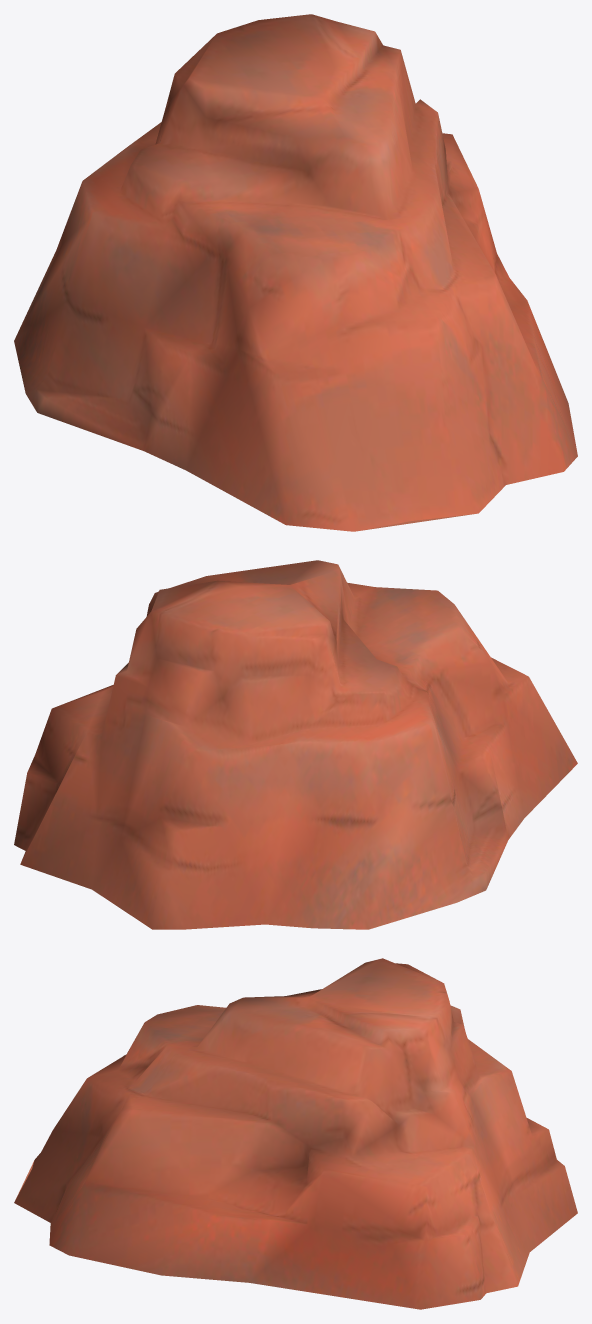
File: Demo_shanshi03.FBX
3 renders of one model, top to bottom at view 1: azimuth 30°, elevation 25°; view 2: azimuth 150°, elevation 25°; view 3: azimuth 270°, elevation 25°, orthographic. The views are drawn at different scales.
Visible parts, largest first — view 1: Object001; view 2: Object001; view 3: Object001.
Part boxes in pixels (x1=…): Object001: x1=14, y1=14, x2=577, y2=531; Object001: x1=14, y1=560, x2=577, y2=929; Object001: x1=14, y1=958, x2=577, y2=1309.
Size of the model in its own units: 17.89 by 9.79 by 22.14.
